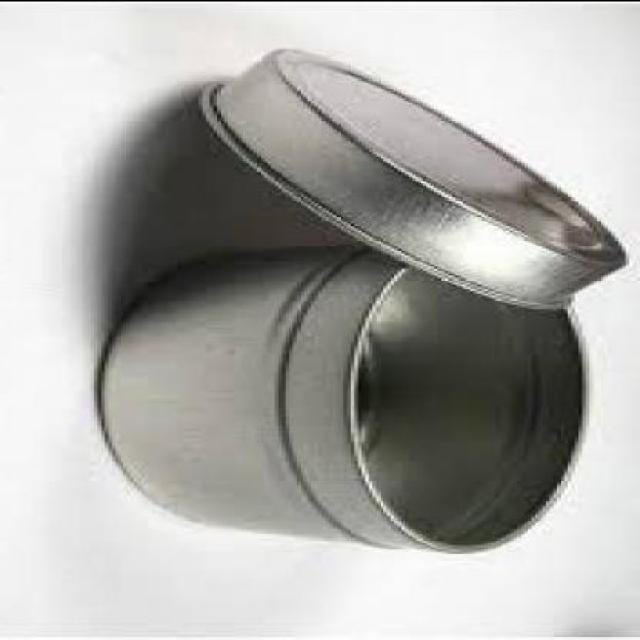METAL: (98, 247, 593, 555), (202, 52, 633, 314)
